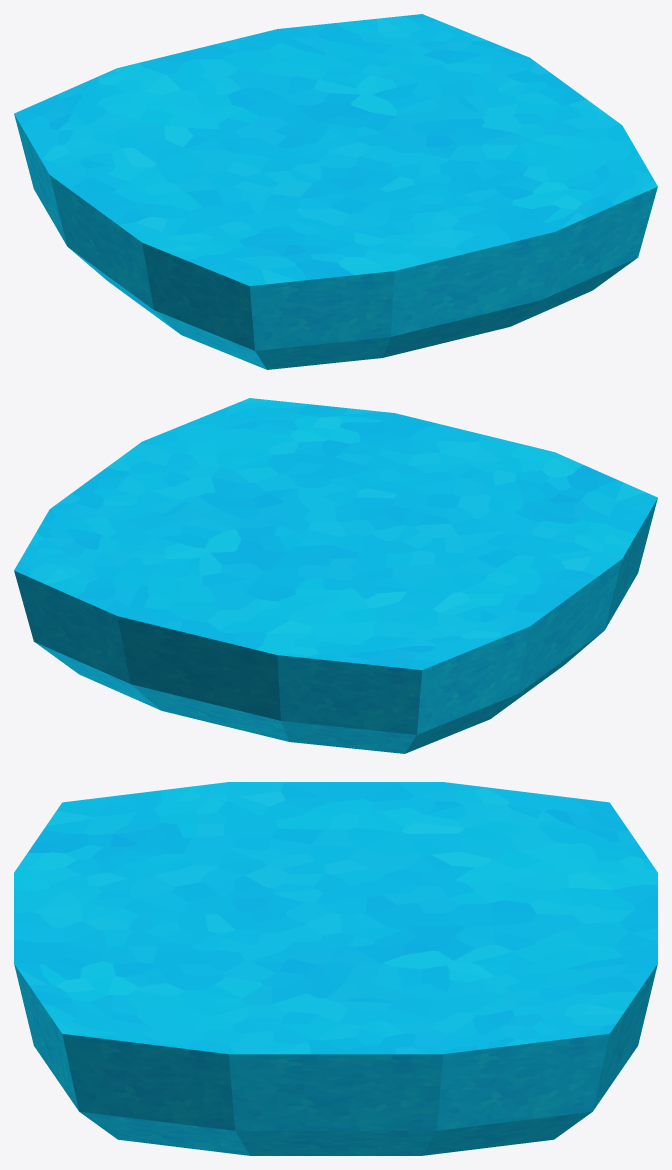
Rendered from FloatingIcePlatform.fbx.
The picture shows the model from 3 angles, top to bottom: view 1: azimuth 30°, elevation 25°; view 2: azimuth 150°, elevation 25°; view 3: azimuth 270°, elevation 25°; orthographic projection. The views are drawn at different scales.
Parts seen in each view (by area): view 1: FloatingPlatform; view 2: FloatingPlatform; view 3: FloatingPlatform.
Boxes of the visible parts, x1,y1,x2,y2 form: FloatingPlatform: (14, 14, 657, 369); FloatingPlatform: (14, 398, 657, 753); FloatingPlatform: (14, 782, 657, 1155).
Bounding box in the file's own units: 4.28 × 0.9493 × 4.28.
